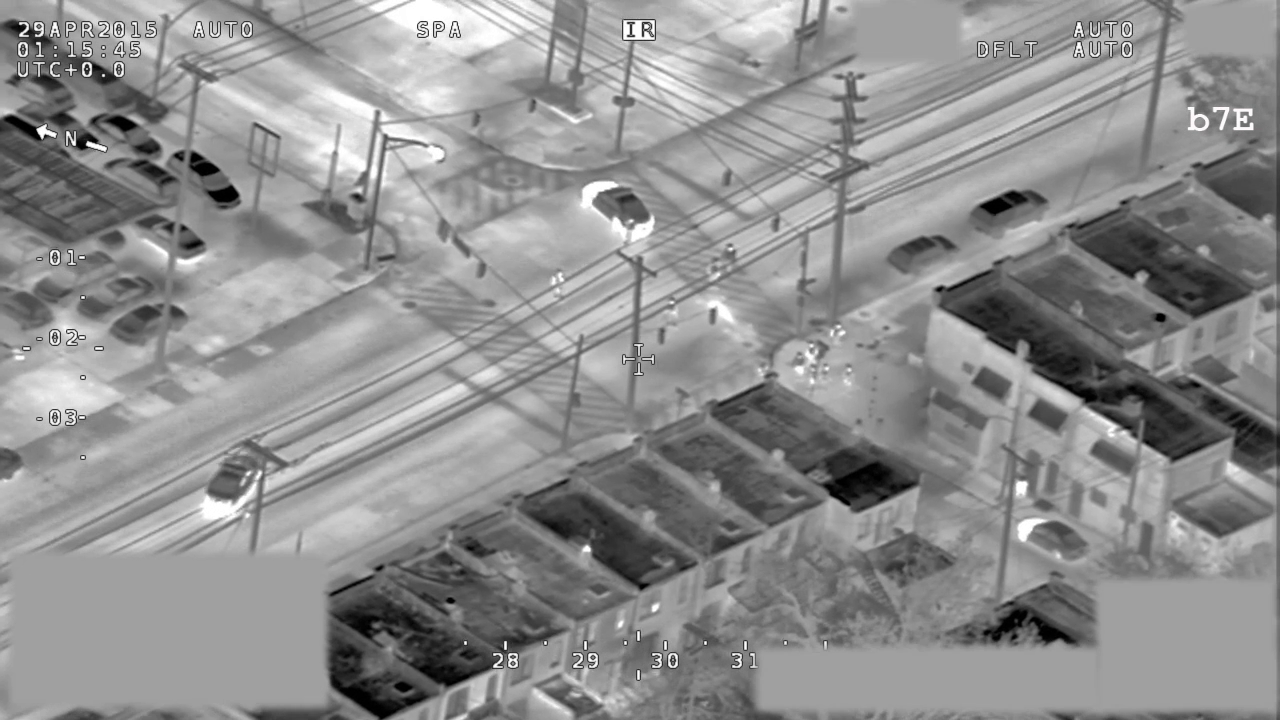vehicle: (19, 100, 104, 168), (198, 448, 267, 524), (578, 179, 658, 243), (167, 146, 245, 211), (32, 248, 116, 307), (965, 184, 1049, 240), (106, 294, 192, 348), (99, 155, 182, 210), (134, 209, 208, 267), (80, 273, 160, 325), (1, 61, 71, 120), (1015, 511, 1091, 565), (88, 113, 167, 164), (888, 234, 962, 280), (1, 282, 52, 335)
